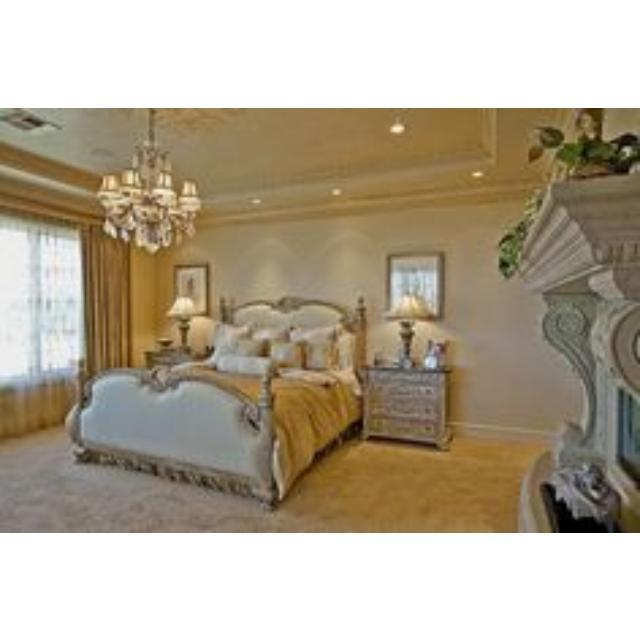bed: (66, 301, 361, 506)
curtain: (1, 192, 130, 375)
dresser: (364, 368, 450, 450)
lamp: (388, 294, 431, 366), (166, 296, 196, 350)
light: (98, 111, 201, 252)
wall-art: (389, 252, 442, 316), (175, 264, 209, 314)
